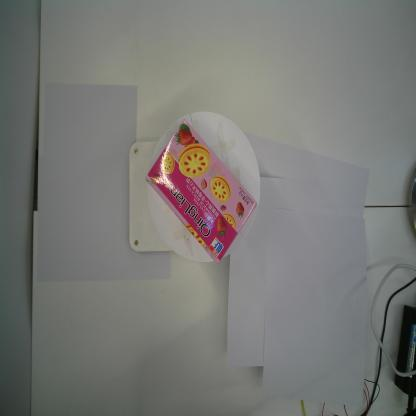Dessert: (144, 118, 257, 266)
